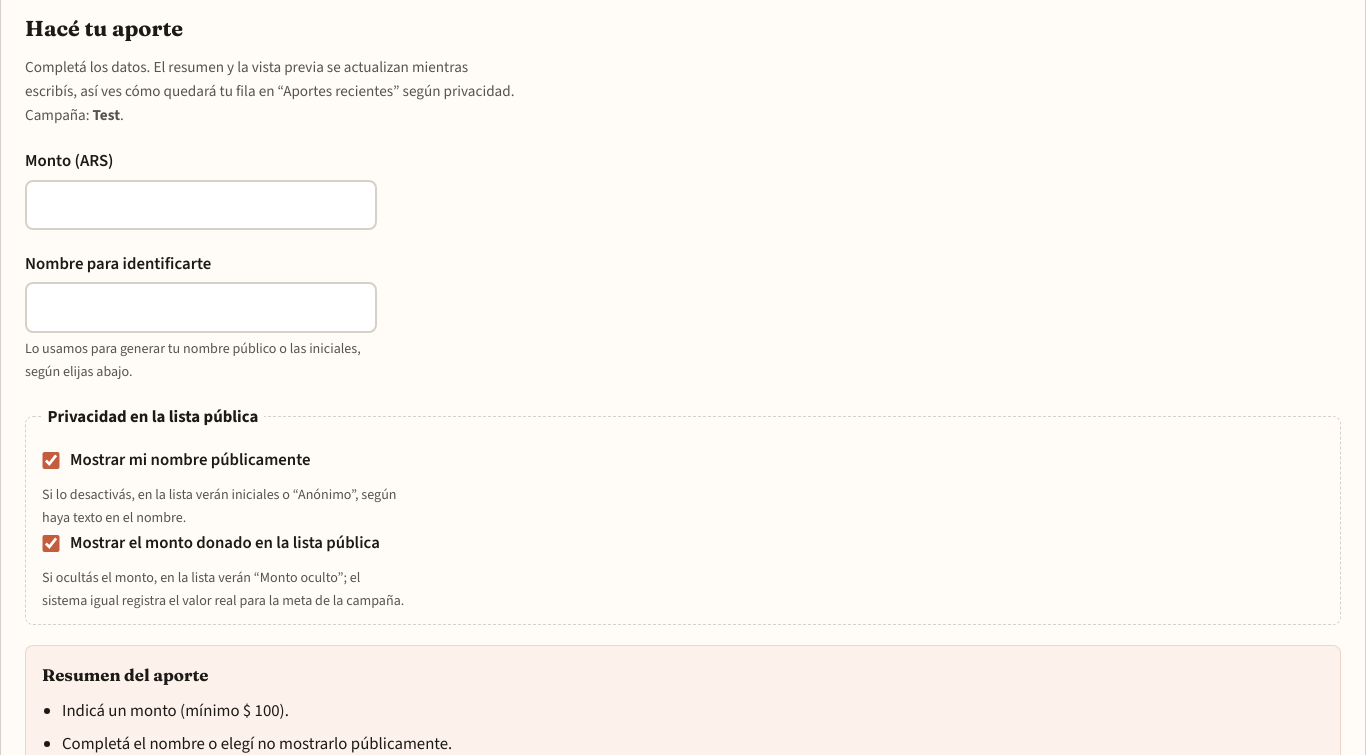
Test case: ContributionForm — comportamiento observable (smart-testing) › cuando el donante completa monto y nombre, la vista previa refleja nombre y cifra visibles
In the number field labelled "Monto (ARS)": (201, 205) [25,180,377,230], type "500"
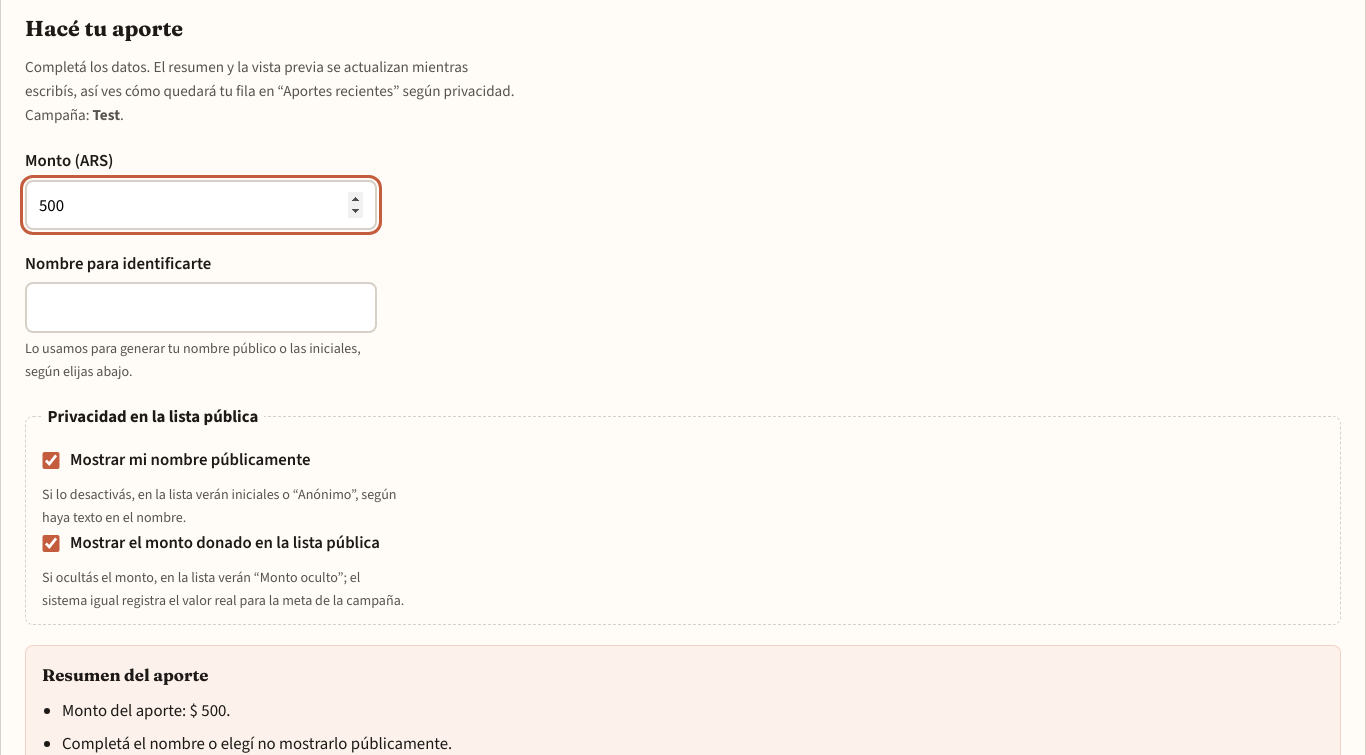
In the field labelled "Nombre para identificarte": (201, 308) [25,282,377,333], type "Ana López"
(page scrolled)
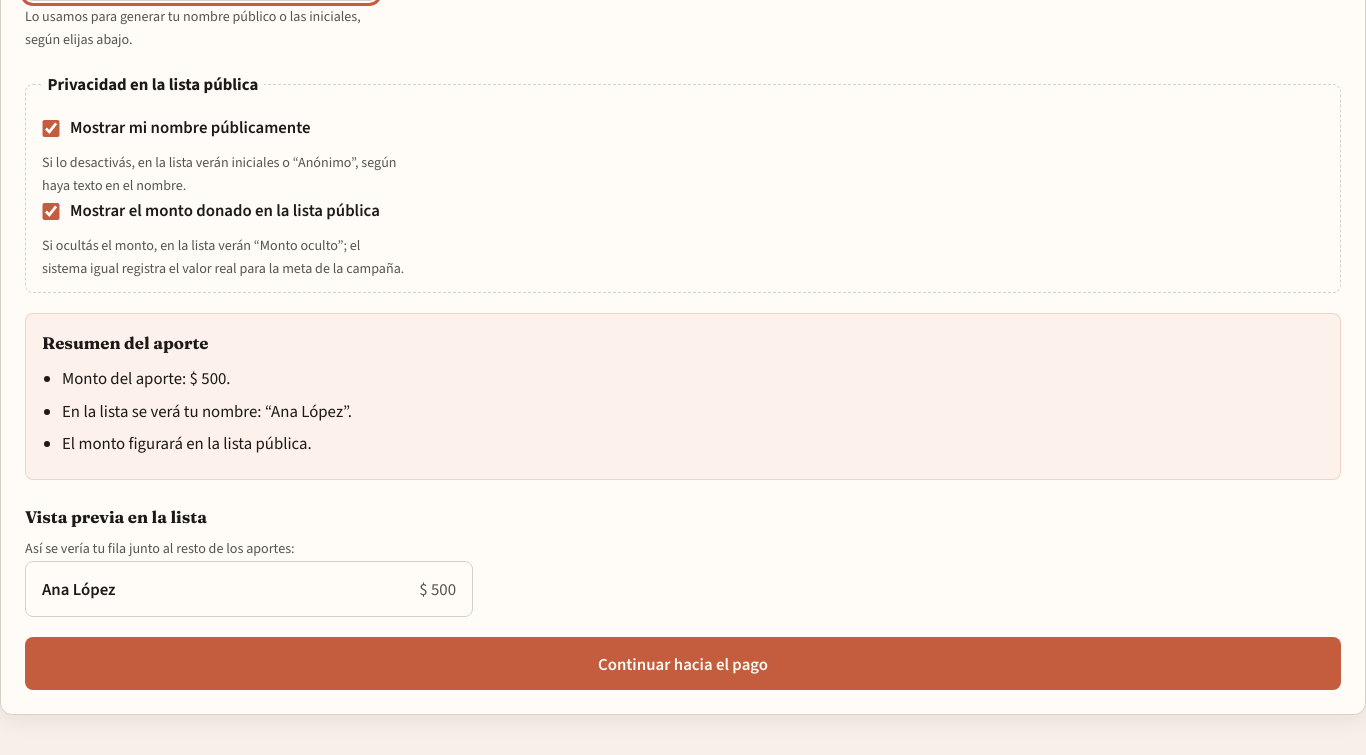
Expected: the list item "Ana López $ 500" is shown, [25,561,473,617]
